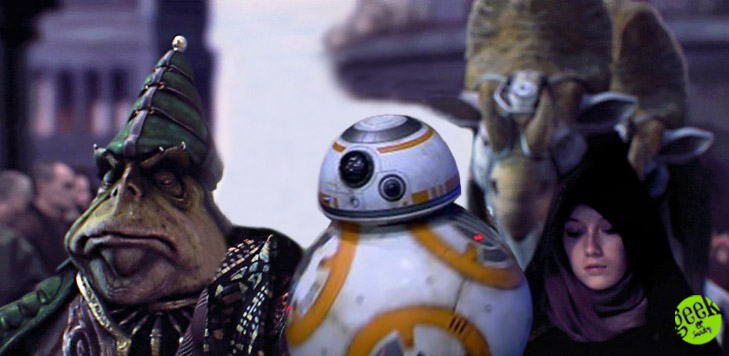bb8: (286, 113, 533, 356)
